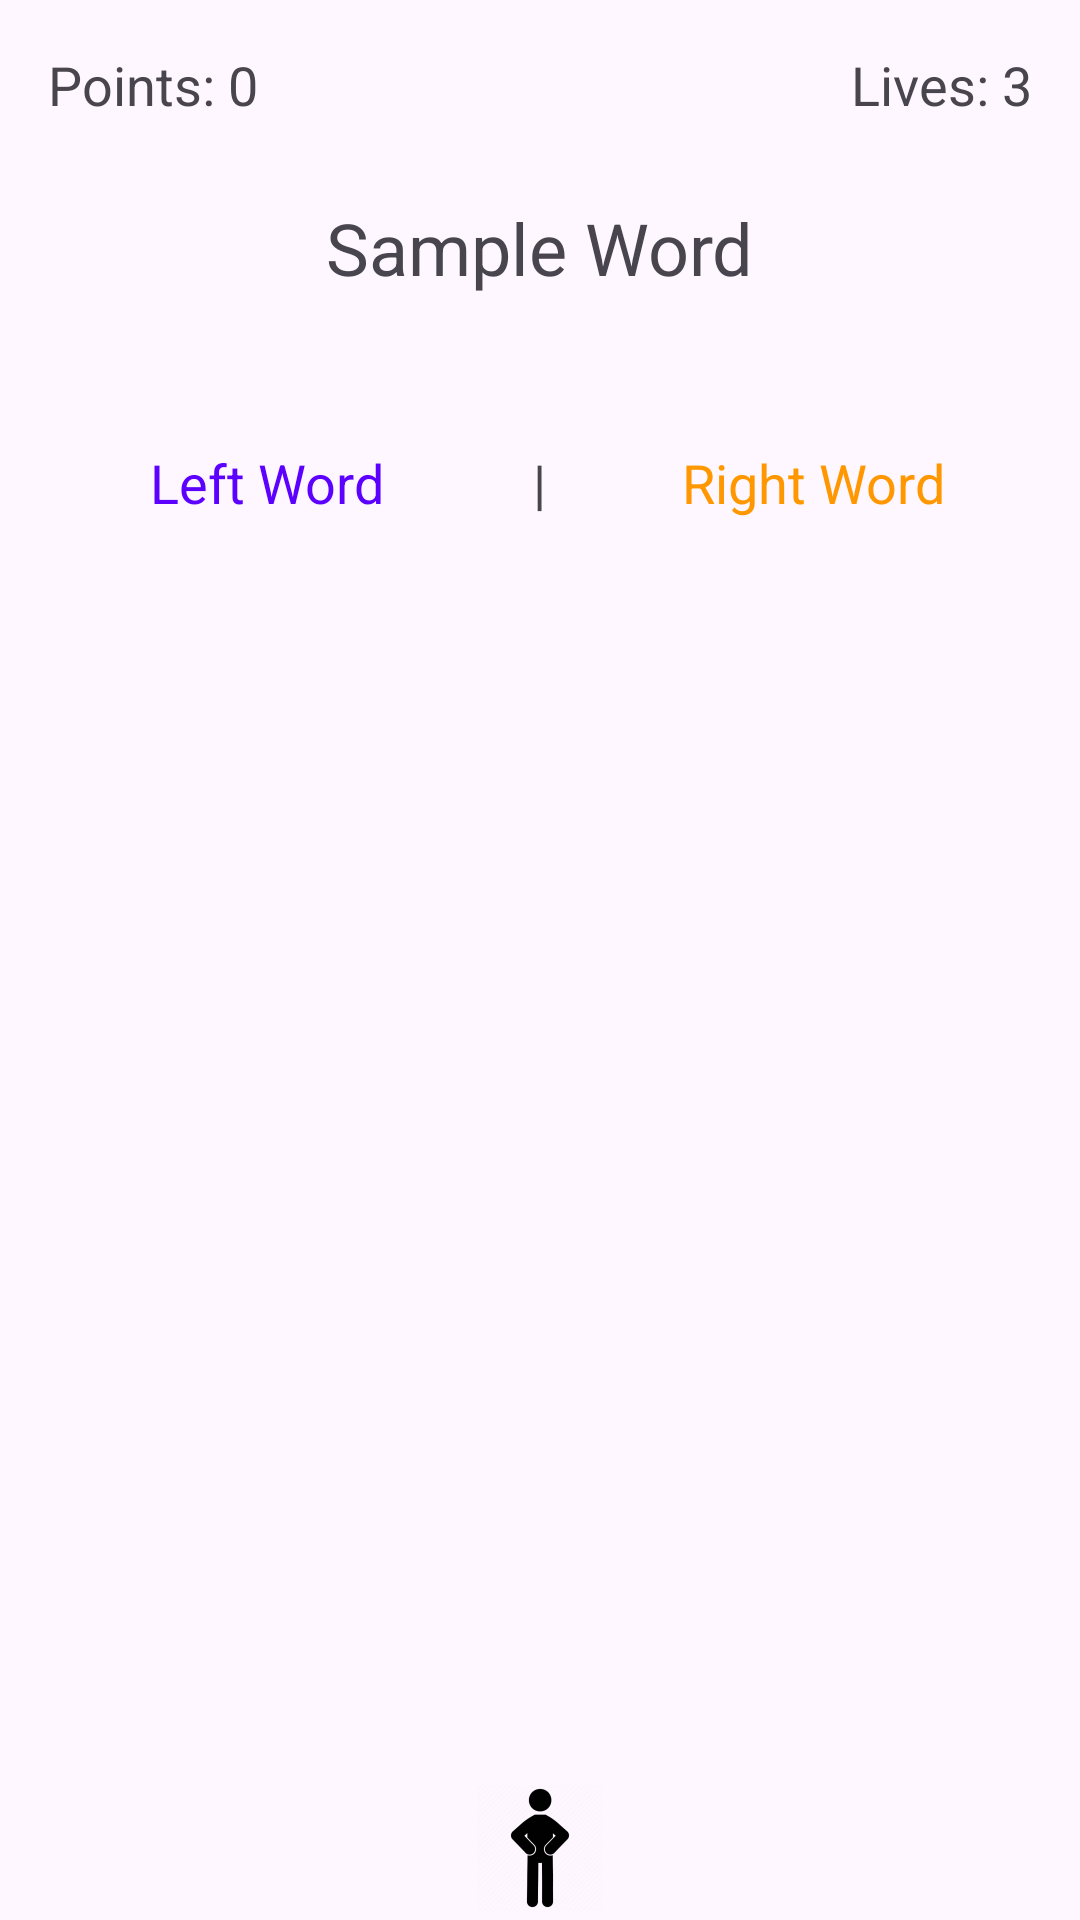

Screen size 1080px×1920px. Icon name, then its box in pixels as (x1, y1, x2, y2):
player: (511, 1789, 569, 1907)
